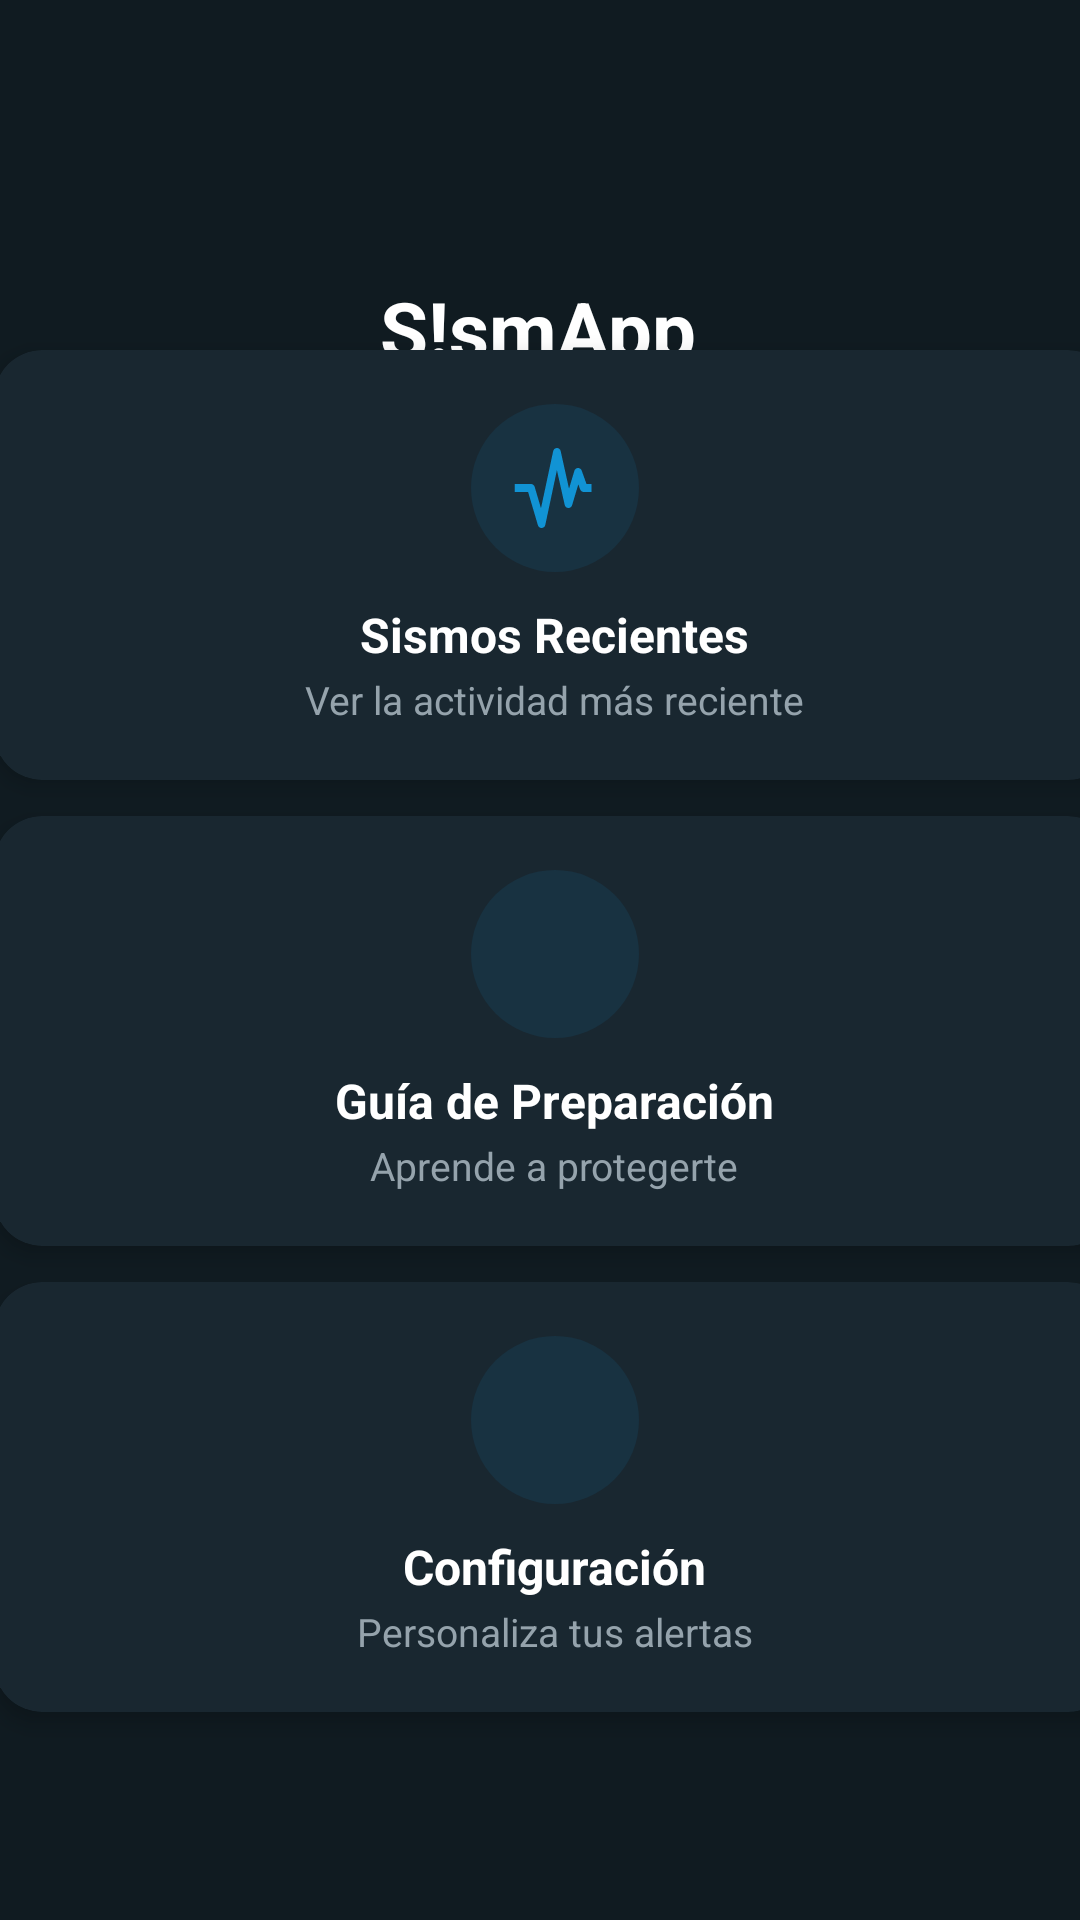

Icons on this 1080 × 1920 Android screen, each with its box as (x1, y1, x2, y2):
earthquake: (471, 404, 639, 572)
